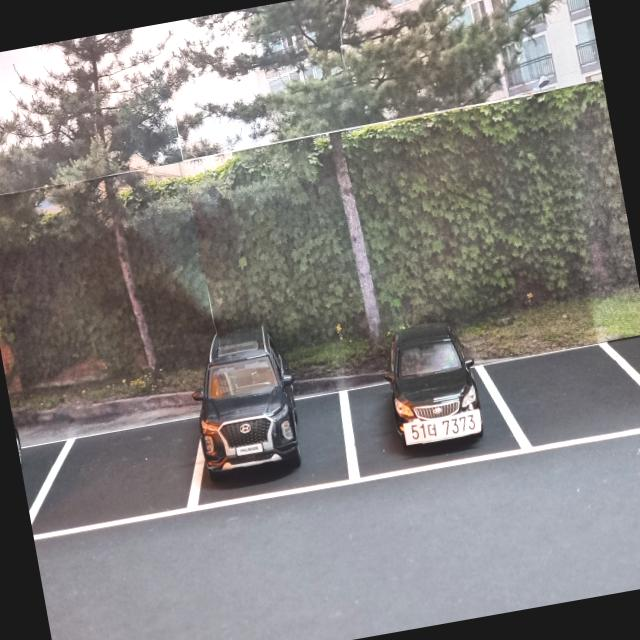car: (182, 312, 316, 483), (366, 306, 493, 458)
free: (17, 408, 221, 546), (471, 328, 640, 458)
